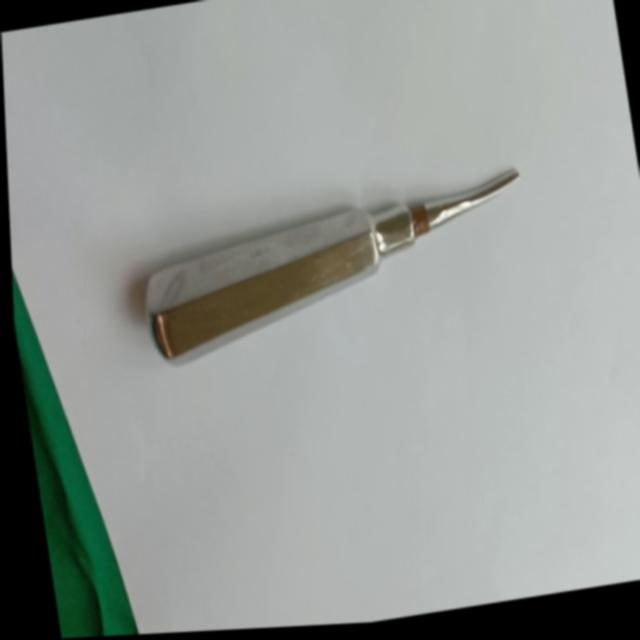Coupland1: (123, 168, 545, 398)
